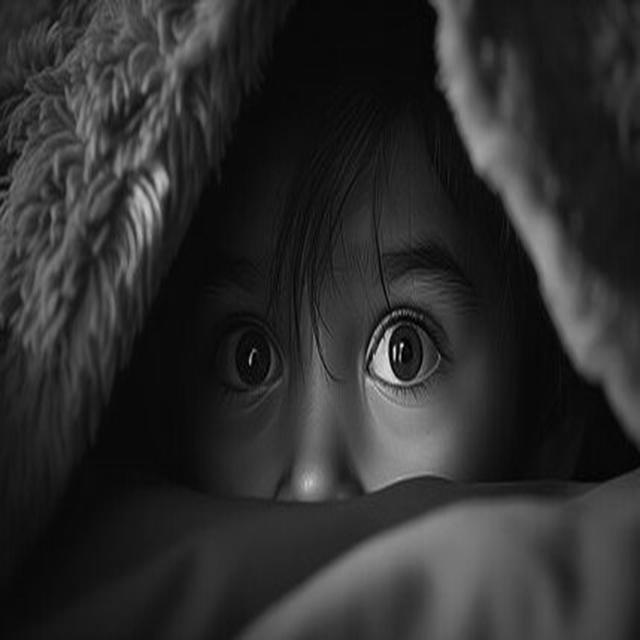Fear: (185, 90, 519, 640)
